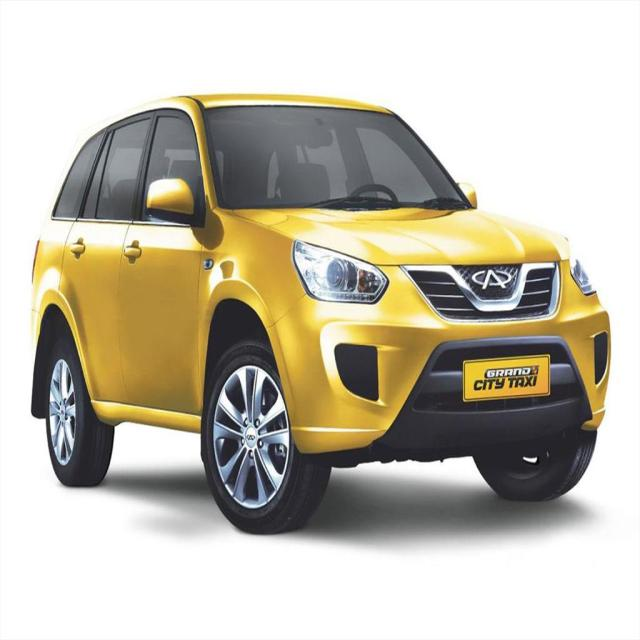Taxi: (16, 72, 617, 536)
